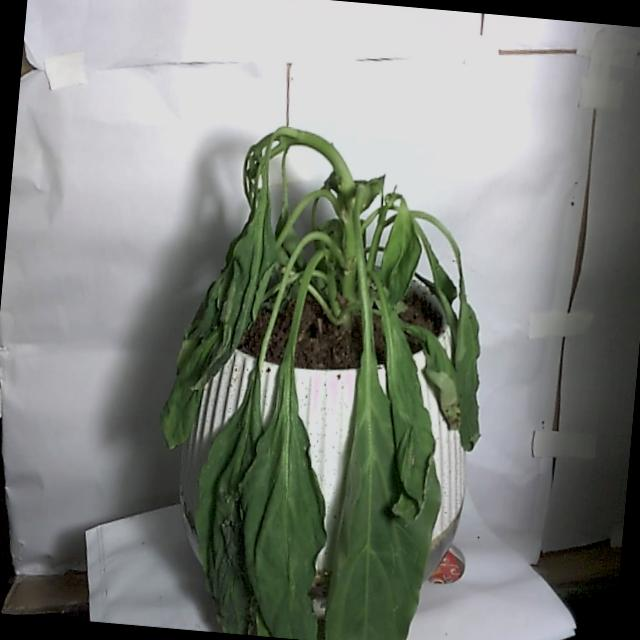Leaf: (315, 357, 440, 640), (182, 368, 290, 636), (232, 371, 339, 640)
